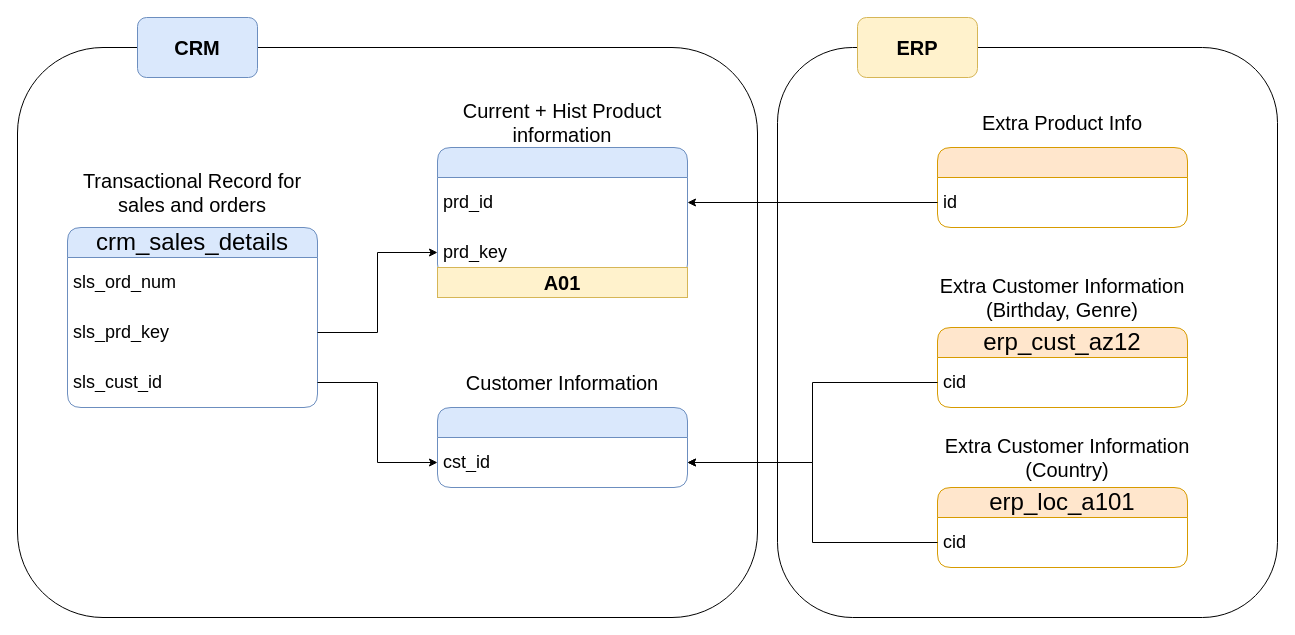
The diagram is 1295 pixels wide and 635 high, and some of its shapes have lost their labels. The box of each missing label's shape, as (x1, y1, x2, y2) in pixels:
crm_cust_info: (436, 406, 688, 488)
crm_prd_info: (436, 146, 688, 278)
erp_px_cat_g1v2: (936, 146, 1188, 228)
